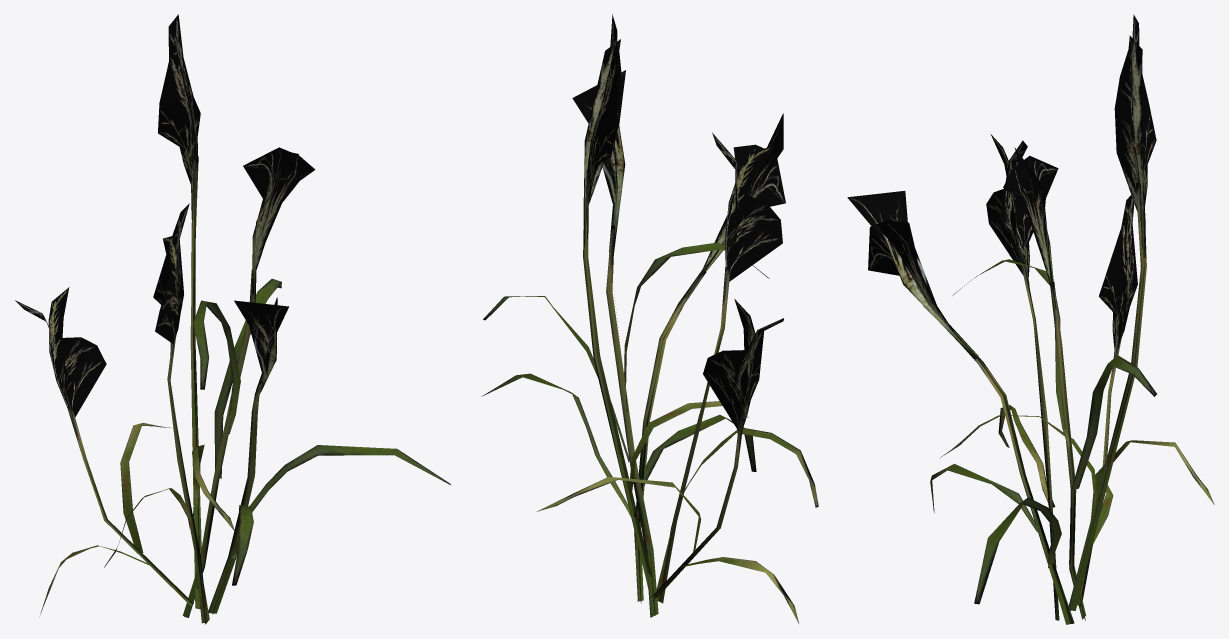
The model's file is grass_medium_01_5.glb.
3 renders of one model, left to right at view 1: azimuth 30°, elevation 25°; view 2: azimuth 150°, elevation 25°; view 3: azimuth 270°, elevation 25°, orthographic. The views are drawn at different scales.
Parts seen in each view (by area): view 1: grass_medium_01_tall_c_LOD0; view 2: grass_medium_01_tall_c_LOD0; view 3: grass_medium_01_tall_c_LOD0.
Part boxes in pixels (x1,y1,x2,y2): grass_medium_01_tall_c_LOD0: (15,14,450,624); grass_medium_01_tall_c_LOD0: (481,14,818,623); grass_medium_01_tall_c_LOD0: (847,14,1214,624).
Bounding box in the file's own units: 0.153 × 0.2363 × 0.1282.
Materials: 1 (1 with a texture image).
